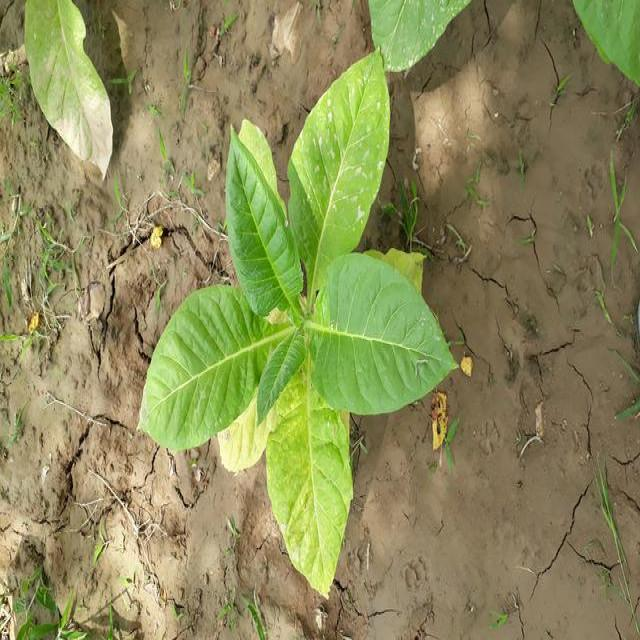crop: (140, 40, 456, 600)
